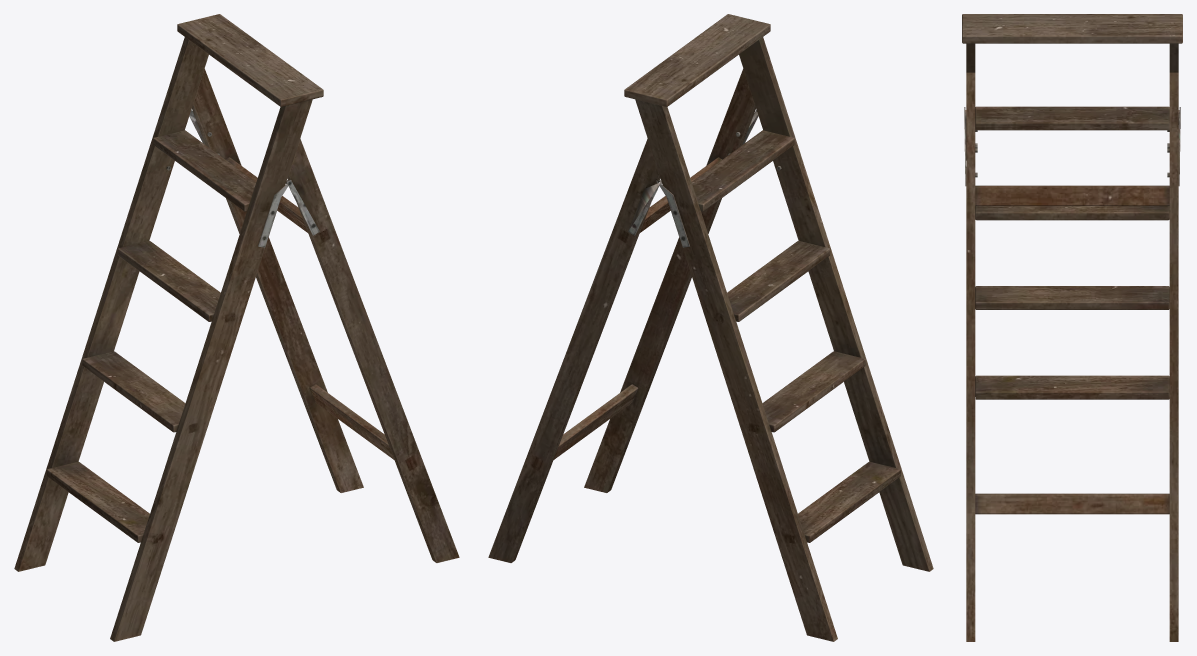
The model's file is wooden_ladder.glb.
3 renders of one model, left to right at view 1: azimuth 30°, elevation 25°; view 2: azimuth 150°, elevation 25°; view 3: azimuth 270°, elevation 25°, orthographic. The views are drawn at different scales.
Visible parts, largest first — view 1: wooden_ladder_supports; view 2: wooden_ladder_supports; view 3: wooden_ladder_supports.
Part boxes in pixels (x1=…): wooden_ladder_supports: x1=14, y1=14, x2=459, y2=641; wooden_ladder_supports: x1=488, y1=14, x2=933, y2=641; wooden_ladder_supports: x1=962, y1=14, x2=1182, y2=641.
Size of the model in its own units: 0.9592 by 1.33 by 0.5.
1 material, 1 textured.
